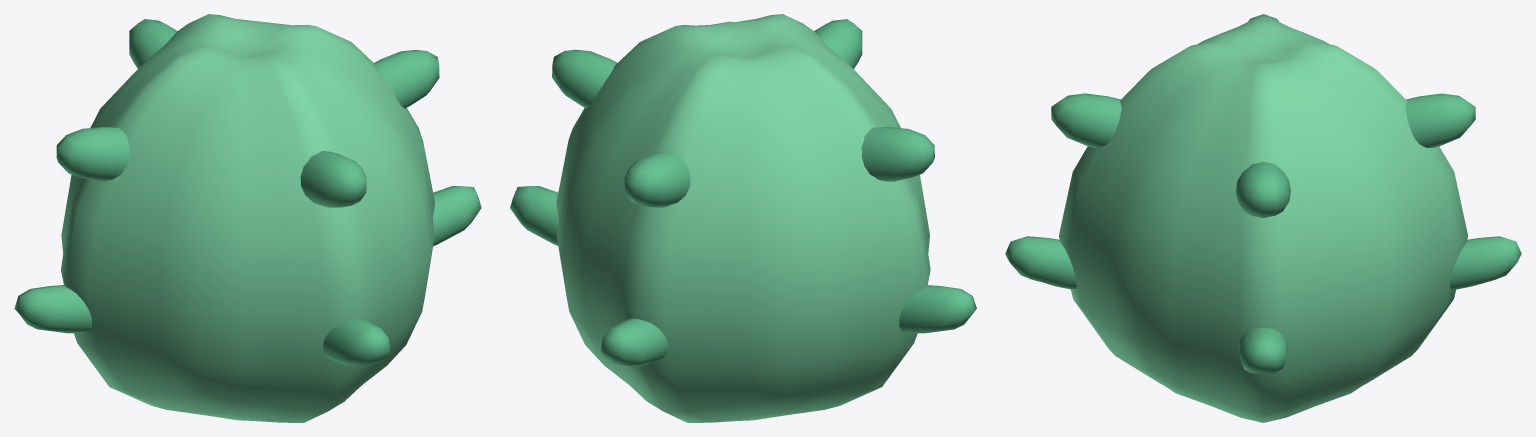
File: Cactus_B_02.fbx
The picture shows the model from 3 angles, left to right: view 1: azimuth 30°, elevation 25°; view 2: azimuth 150°, elevation 25°; view 3: azimuth 270°, elevation 25°; orthographic projection. The views are drawn at different scales.
Visible parts, largest first — view 1: Cactus_B_02_LOD0; view 2: Cactus_B_02_LOD0; view 3: Cactus_B_02_LOD0.
Part boxes in pixels (<box>): Cactus_B_02_LOD0: <box>14,14,481,422</box>; Cactus_B_02_LOD0: <box>510,14,976,422</box>; Cactus_B_02_LOD0: <box>1005,14,1521,422</box>.
Size of what is drawn, in the model's own units: 510 by 396 by 510.
